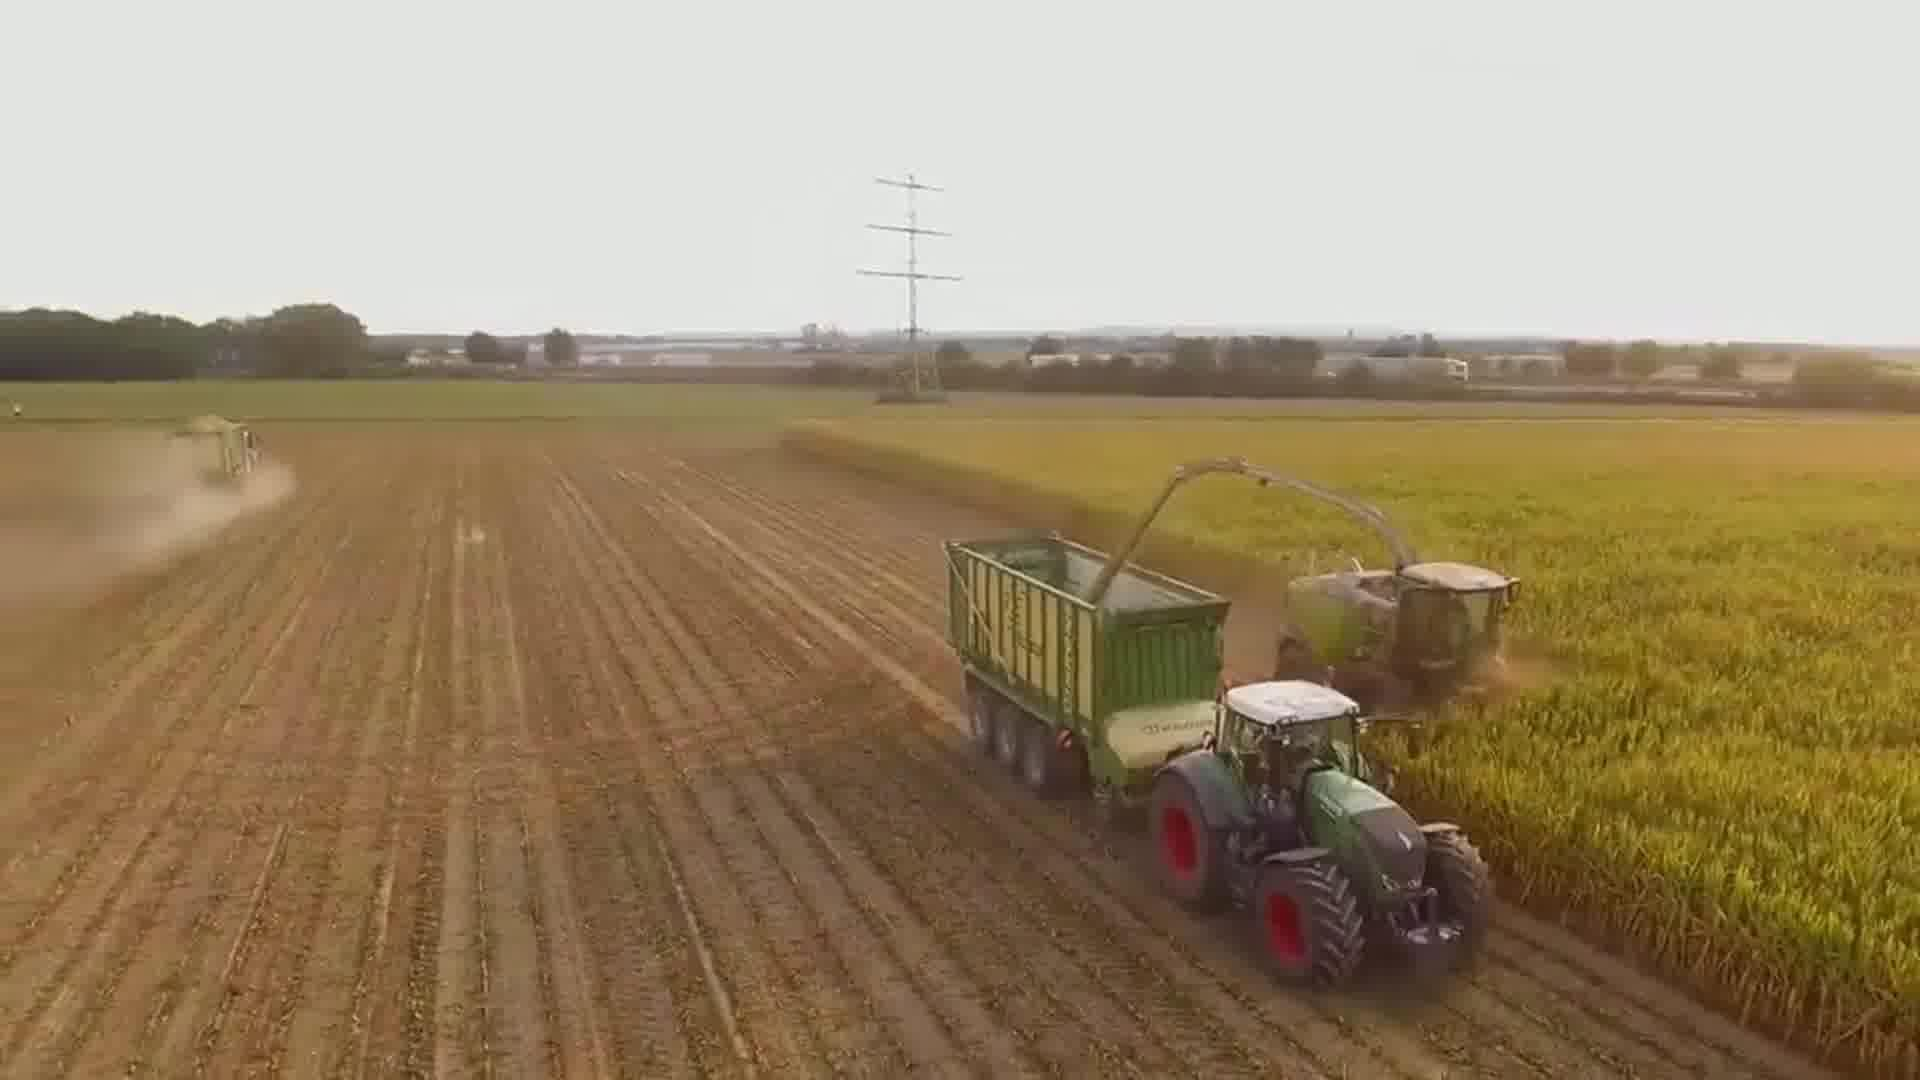combine harvester: (1166, 448, 1545, 744)
tractor: (1138, 666, 1503, 1006)
trailer: (930, 516, 1224, 804), (153, 411, 243, 493)
